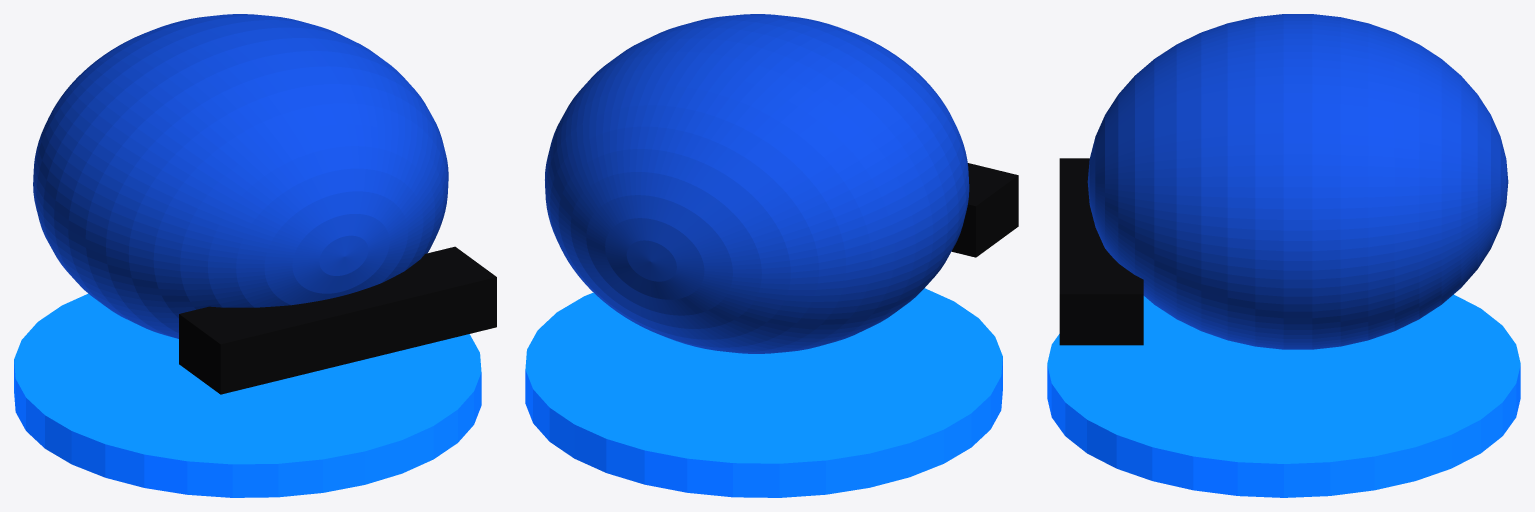
Rendered from sports_helmet.dae.
3 renders of one model, left to right at view 1: azimuth 30°, elevation 25°; view 2: azimuth 150°, elevation 25°; view 3: azimuth 270°, elevation 25°, orthographic. The views are drawn at different scales.
Parts seen in each view (by area): view 1: 04_09_Popular_Sports_Helmet_part_01, 04_09_Popular_Sports_Helmet_ROOT_base, 04_09_Popular_Sports_Helmet_part_02; view 2: 04_09_Popular_Sports_Helmet_part_01, 04_09_Popular_Sports_Helmet_ROOT_base, 04_09_Popular_Sports_Helmet_part_02; view 3: 04_09_Popular_Sports_Helmet_part_01, 04_09_Popular_Sports_Helmet_ROOT_base, 04_09_Popular_Sports_Helmet_part_02.
Part boxes in pixels (box(x1,y1,x2,y2)): 04_09_Popular_Sports_Helmet_part_01: box(33, 14, 448, 338); 04_09_Popular_Sports_Helmet_ROOT_base: box(14, 293, 481, 497); 04_09_Popular_Sports_Helmet_part_02: box(179, 246, 496, 394); 04_09_Popular_Sports_Helmet_part_01: box(545, 14, 969, 353); 04_09_Popular_Sports_Helmet_ROOT_base: box(525, 288, 1002, 497); 04_09_Popular_Sports_Helmet_part_02: box(951, 163, 1018, 257); 04_09_Popular_Sports_Helmet_part_01: box(1087, 14, 1508, 349); 04_09_Popular_Sports_Helmet_ROOT_base: box(1047, 294, 1520, 497); 04_09_Popular_Sports_Helmet_part_02: box(1059, 158, 1143, 345).
Size of the model in its own units: 0.76 by 0.6351 by 0.76.
